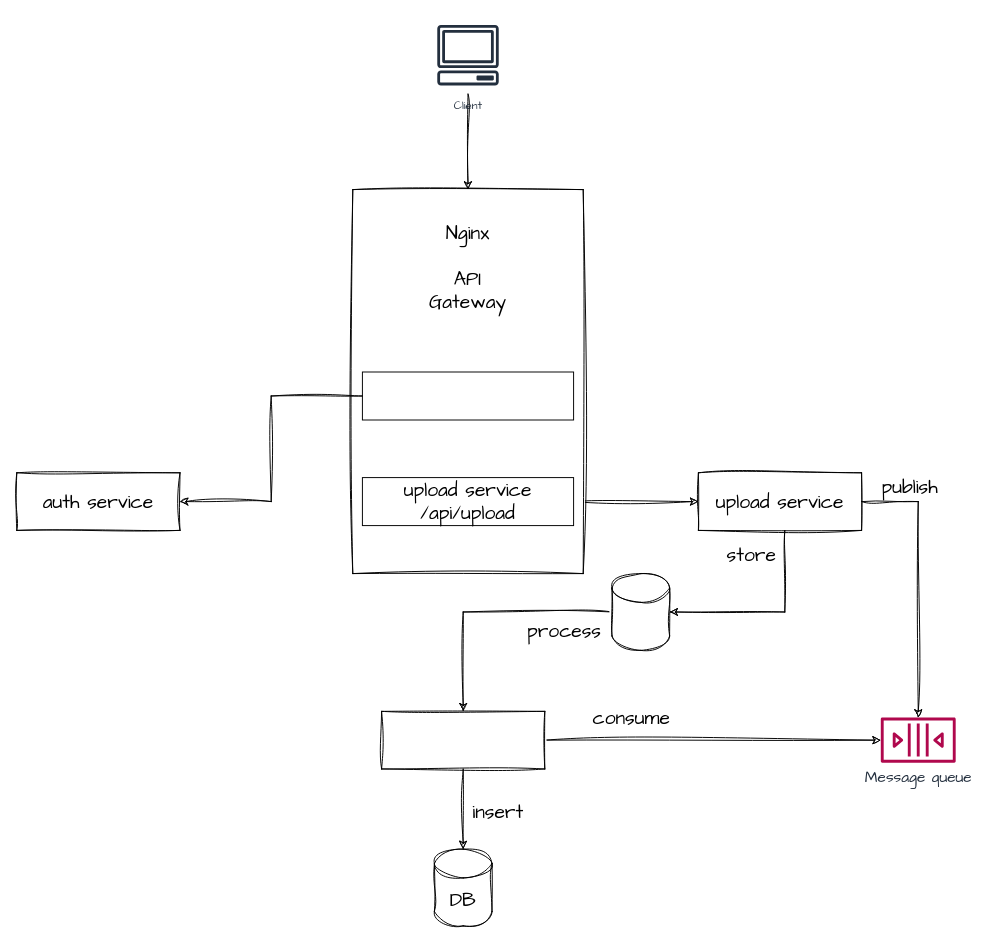
Some shapes in this 988 by 943 pixel diagram are drawn without their labels. The shapes that lost their labels are listed below. From the top down, each one's box as (x1, y1, x2, y2) in pixels, then its label:
(361, 371, 574, 420): auth service /api/auth
(611, 573, 670, 650): Files
(381, 710, 545, 769): process service
